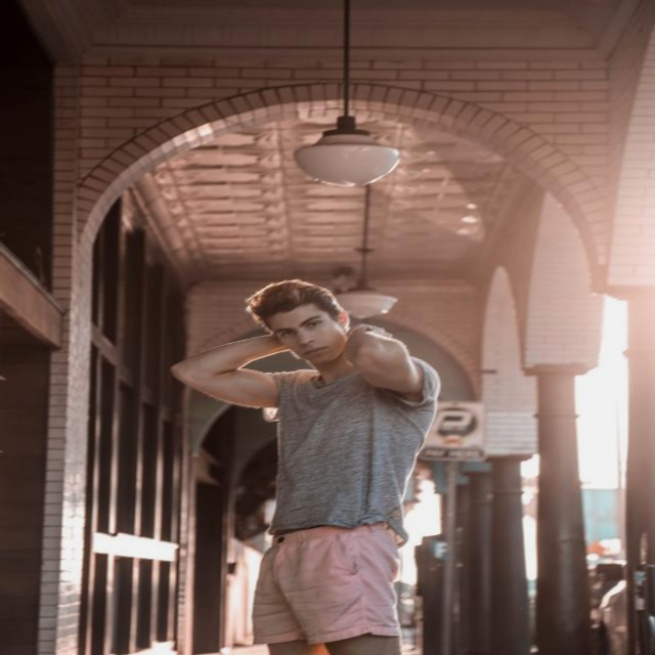Shorts: (248, 505, 403, 655)
